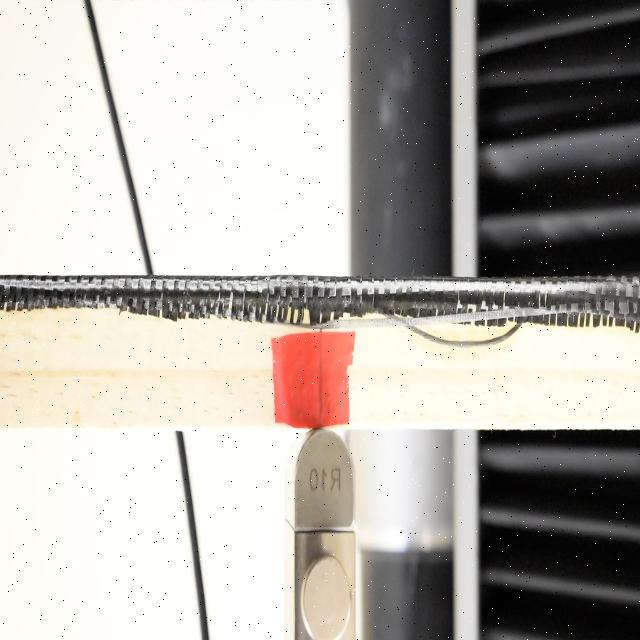wood: (0, 279, 639, 426)
